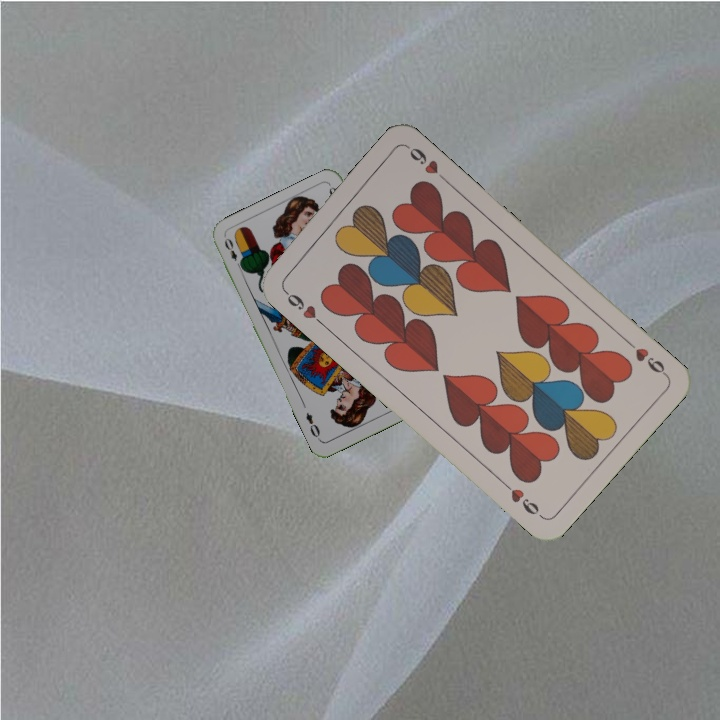EO: (220, 234, 245, 272)
H9: (621, 335, 670, 379), (279, 285, 327, 329)
